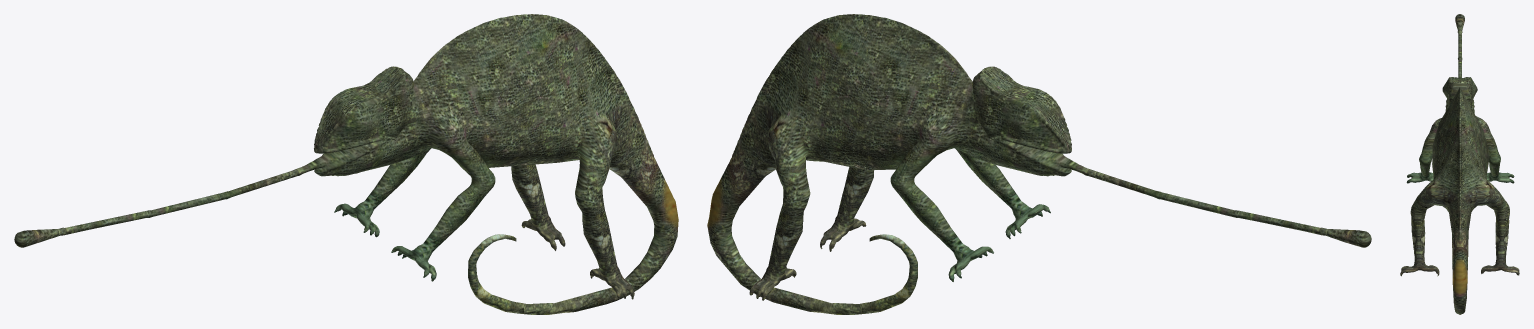
File: Chameleon.dae
3 renders of one model, left to right at view 1: azimuth 30°, elevation 25°; view 2: azimuth 150°, elevation 25°; view 3: azimuth 270°, elevation 25°, orthographic. The views are drawn at different scales.
Parts seen in each view (by area): view 1: chamaL; view 2: chamaL; view 3: chamaL.
Part boxes in pixels (left/top/right/bottom): chamaL: left=14, top=14, right=678, bottom=314; chamaL: left=707, top=14, right=1371, bottom=314; chamaL: left=1400, top=14, right=1519, bottom=314.
Size of the model in its own units: 0.86 by 0.2264 by 0.388.
